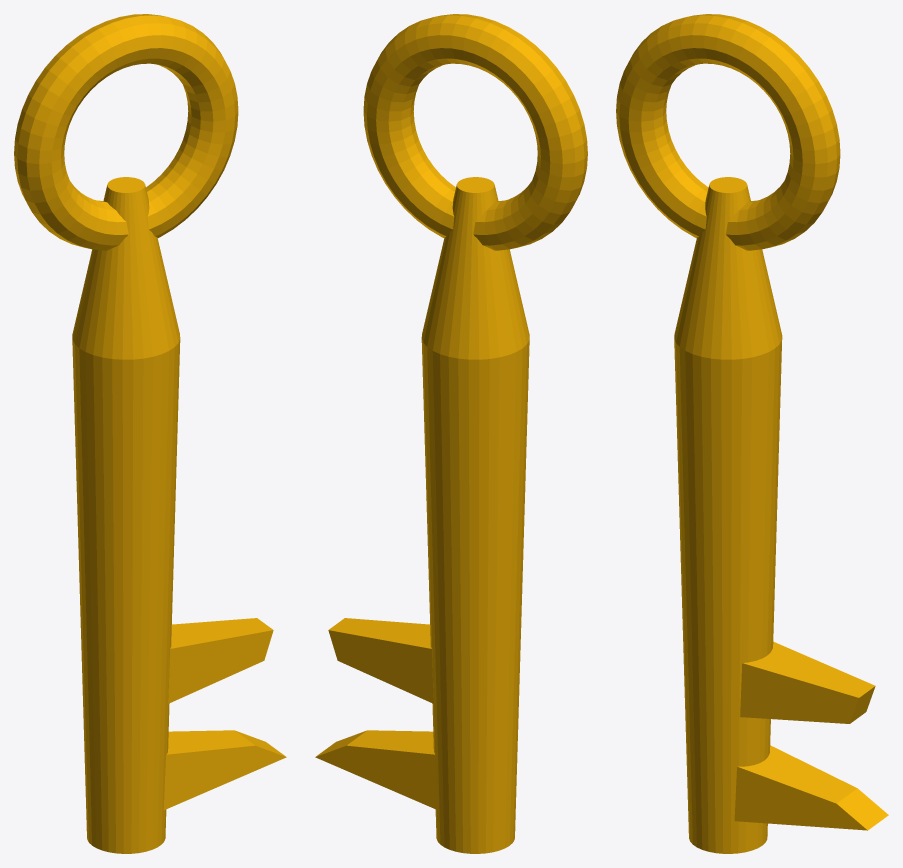
The model's file is key.fbx.
The picture shows the model from 3 angles, left to right: view 1: azimuth 30°, elevation 25°; view 2: azimuth 150°, elevation 25°; view 3: azimuth 330°, elevation 25°; orthographic projection.
Visible parts, largest first — view 1: Cylinder; view 2: Cylinder; view 3: Cylinder.
Part boxes in pixels (x1,y1,x2,y2): Cylinder: (14,14,286,853); Cylinder: (315,14,587,853); Cylinder: (616,14,888,853).
Size of the model in its own units: 196 by 593 by 71.06.
